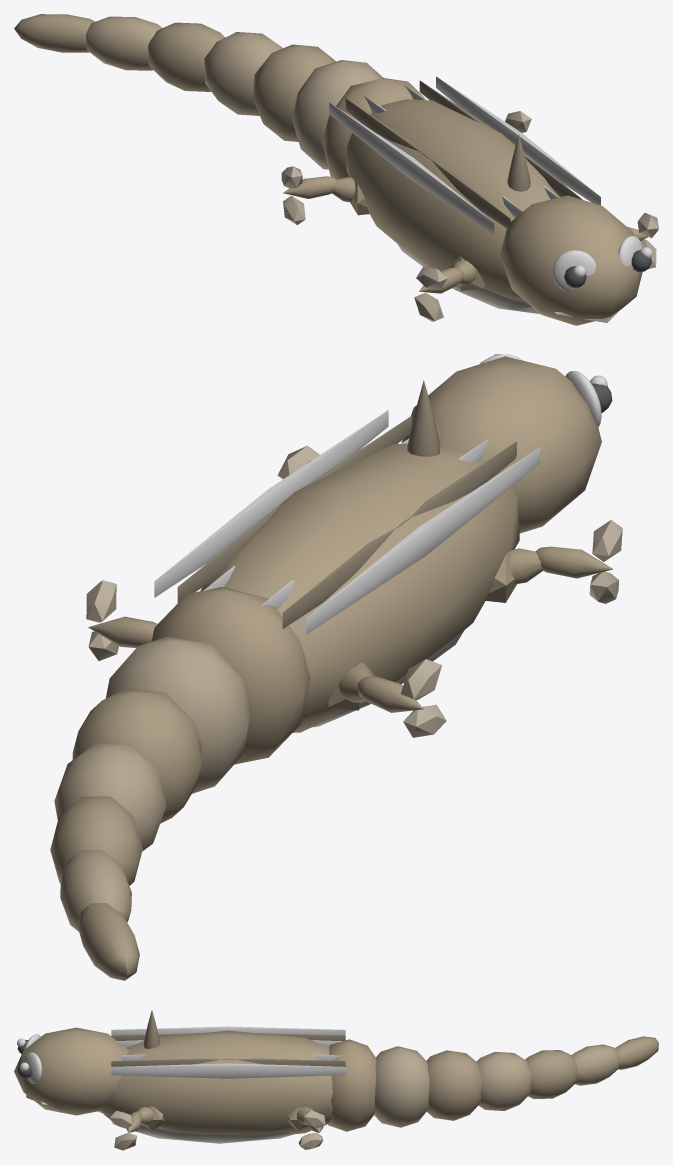
File: eutropis-multifasciata.glb
The picture shows the model from 3 angles, top to bottom: view 1: azimuth 30°, elevation 25°; view 2: azimuth 150°, elevation 25°; view 3: azimuth 270°, elevation 25°; orthographic projection. The views are drawn at different scales.
Visible parts, largest first — view 1: body, head, tail2, tail1, tail3, tail4, tail5, tail0, tail6, belly, face-eye-r, crest0 (+7 smaller); view 2: body, head, tail0, tail1, tail2, tail3, tail4, tail5, tail6, leg0-r1, crest0, leg1-r1 (+6 smaller); view 3: body, head, tail1, tail0, tail2, tail3, tail4, tail5, belly, tail6, crest0, face-eye-l (+4 smaller).
Boxes of the visible parts, left/top/right/bottom form: body: left=329, top=76, right=600, bottom=300; head: left=500, top=195, right=642, bottom=325; tail2: left=253, top=44, right=335, bottom=141; tail1: left=291, top=60, right=383, bottom=169; tail3: left=204, top=32, right=282, bottom=115; tail4: left=148, top=22, right=224, bottom=91; tail5: left=86, top=16, right=162, bottom=70; tail0: left=322, top=78, right=425, bottom=179; tail6: left=14, top=14, right=95, bottom=52; belly: left=397, top=244, right=540, bottom=314; face-eye-r: left=552, top=250, right=595, bottom=291; crest0: left=507, top=135, right=530, bottom=191; body: left=154, top=410, right=540, bottom=732; head: left=401, top=356, right=601, bottom=533; tail0: left=151, top=587, right=310, bottom=764; tail1: left=105, top=636, right=251, bottom=793; tail2: left=72, top=688, right=201, bottom=823; tail3: left=54, top=742, right=166, bottom=851; tail4: left=50, top=796, right=142, bottom=885; tail5: left=60, top=849, right=131, bottom=931; tail6: left=77, top=903, right=139, bottom=980; leg0-r1: left=535, top=546, right=613, bottom=578; crest0: left=407, top=380, right=440, bottom=456; leg1-r1: left=357, top=676, right=423, bottom=712; body: left=98, top=1026, right=345, bottom=1135; head: left=14, top=1027, right=129, bottom=1115; tail1: left=374, top=1046, right=429, bottom=1127; tail0: left=327, top=1039, right=376, bottom=1131; tail2: left=426, top=1050, right=481, bottom=1120; tail3: left=476, top=1052, right=531, bottom=1110; tail4: left=525, top=1050, right=577, bottom=1099; tail5: left=572, top=1044, right=619, bottom=1085; belly: left=103, top=1113, right=293, bottom=1143; tail6: left=616, top=1036, right=658, bottom=1069; crest0: left=144, top=1010, right=159, bottom=1048; face-eye-l: left=23, top=1052, right=42, bottom=1083.
Bounding box in the file's own units: 0.4769 × 0.3074 × 1.39.
